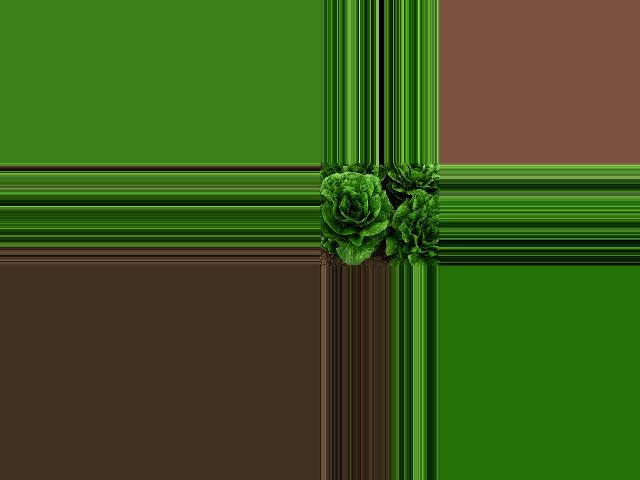lettuce: (392, 189, 440, 263)
